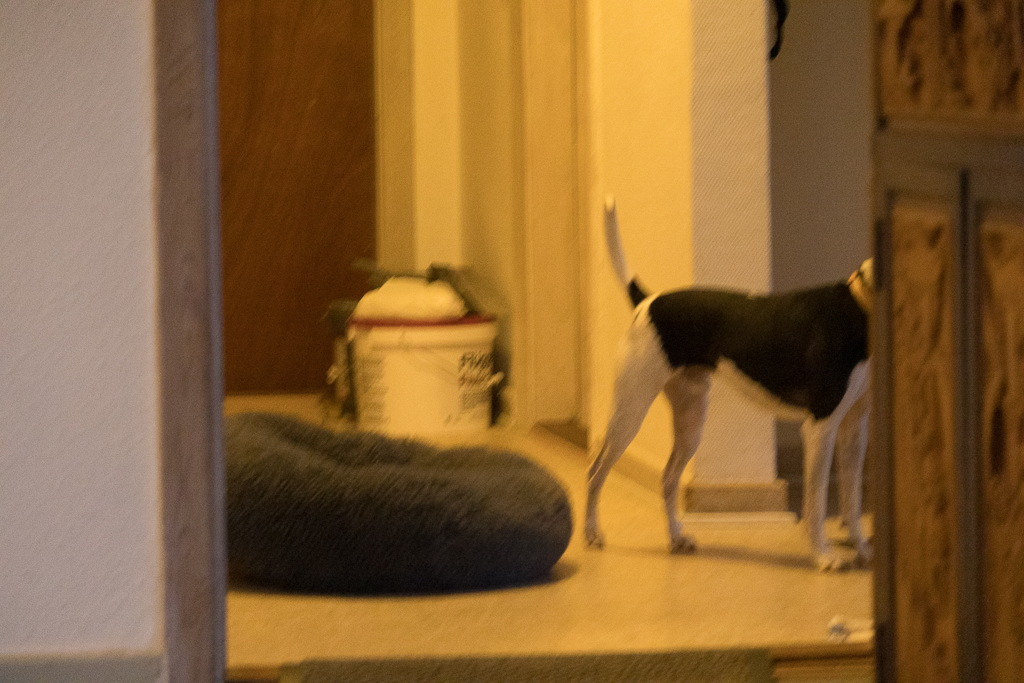Dog: (572, 187, 881, 577)
